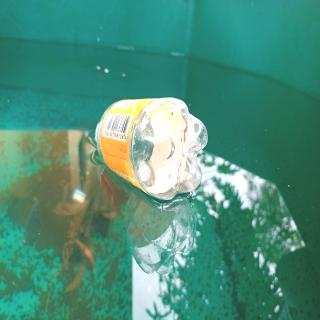bottle: (95, 95, 208, 203)
